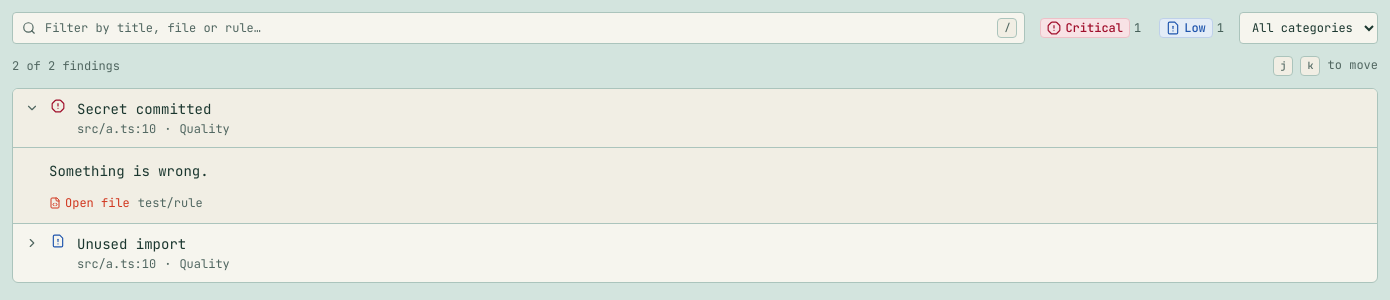
it: FindingsPanel › toggles severity filters and reflects pressed state
Click the button "Critical 1". click: (1091,28)
box: x1=1033 y1=13 x2=1148 y2=43
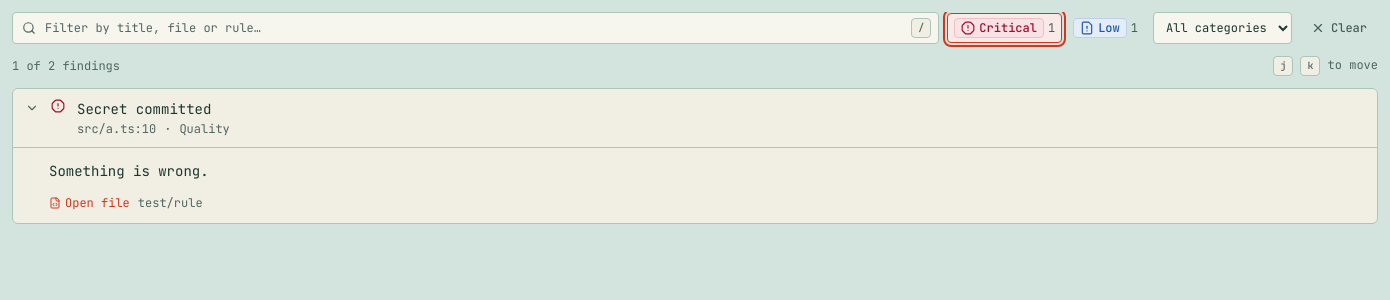
Expected: the text "Secret committed" is shown, x1=77 y1=100 x2=211 y2=118
Expected: the button "Unused import" is gone
